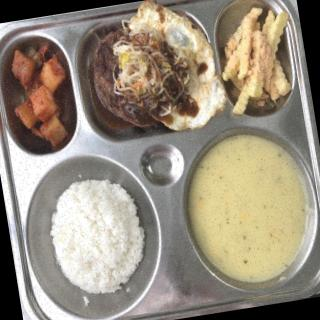Nasi: (41, 171, 153, 304)
